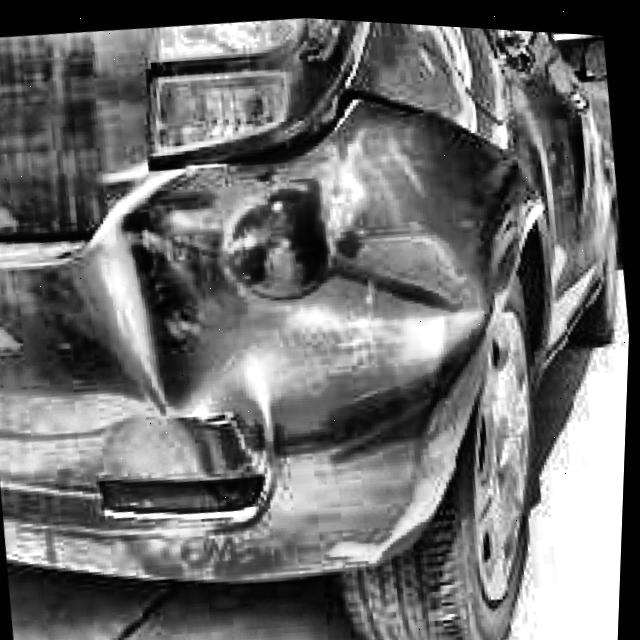bumper_dent: (113, 158, 489, 448)
